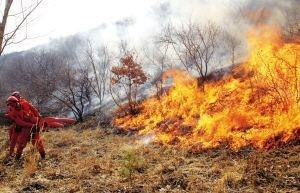fire: (114, 24, 296, 150)
